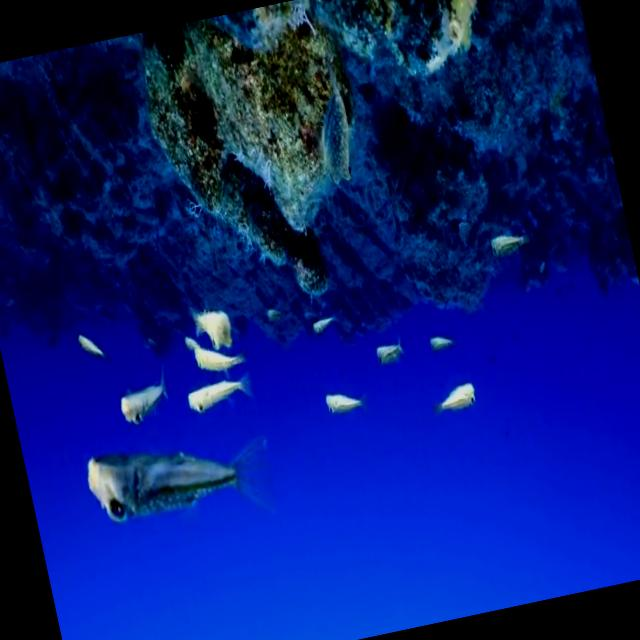Balon Baligi: (73, 414, 284, 550), (110, 366, 178, 434), (185, 367, 258, 418), (422, 376, 484, 434), (186, 332, 257, 382), (474, 222, 530, 278), (319, 383, 370, 430), (68, 318, 110, 370), (306, 300, 343, 348), (366, 328, 408, 368), (424, 323, 458, 361)
